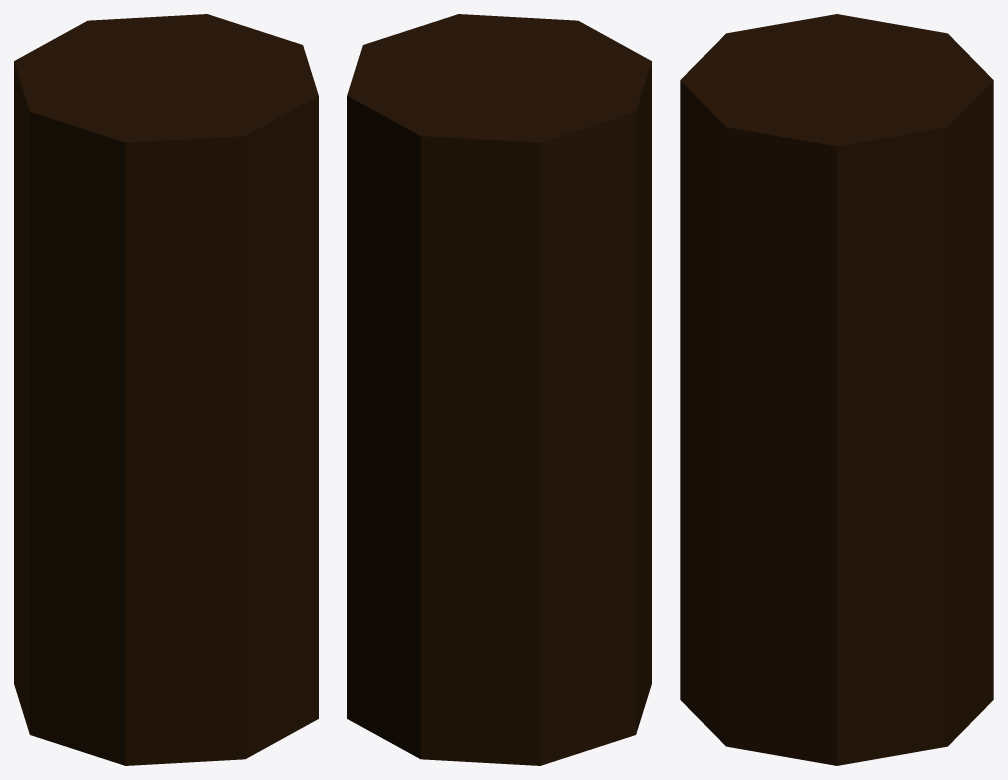
The model's file is VineBase.fbx.
The picture shows the model from 3 angles, left to right: view 1: azimuth 30°, elevation 25°; view 2: azimuth 150°, elevation 25°; view 3: azimuth 270°, elevation 25°; orthographic projection.
Visible parts, largest first — view 1: VineBase; view 2: VineBase; view 3: VineBase.
Boxes of the visible parts, x1,y1,x2,y2 form: VineBase: [14, 14, 318, 765]; VineBase: [347, 14, 651, 765]; VineBase: [680, 14, 993, 765].
Size of the model in its own units: 200 by 436 by 200.
